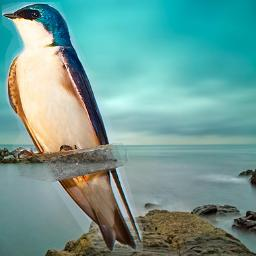Swallow: (2, 2, 143, 252)
